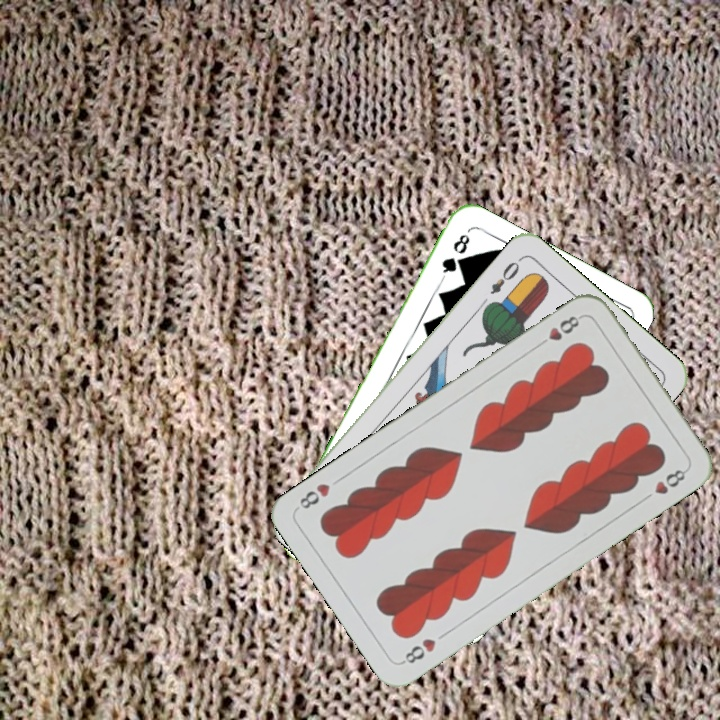EO: (486, 254, 524, 297)
G8: (437, 230, 472, 282)
H8: (533, 311, 585, 350), (397, 634, 439, 667)
